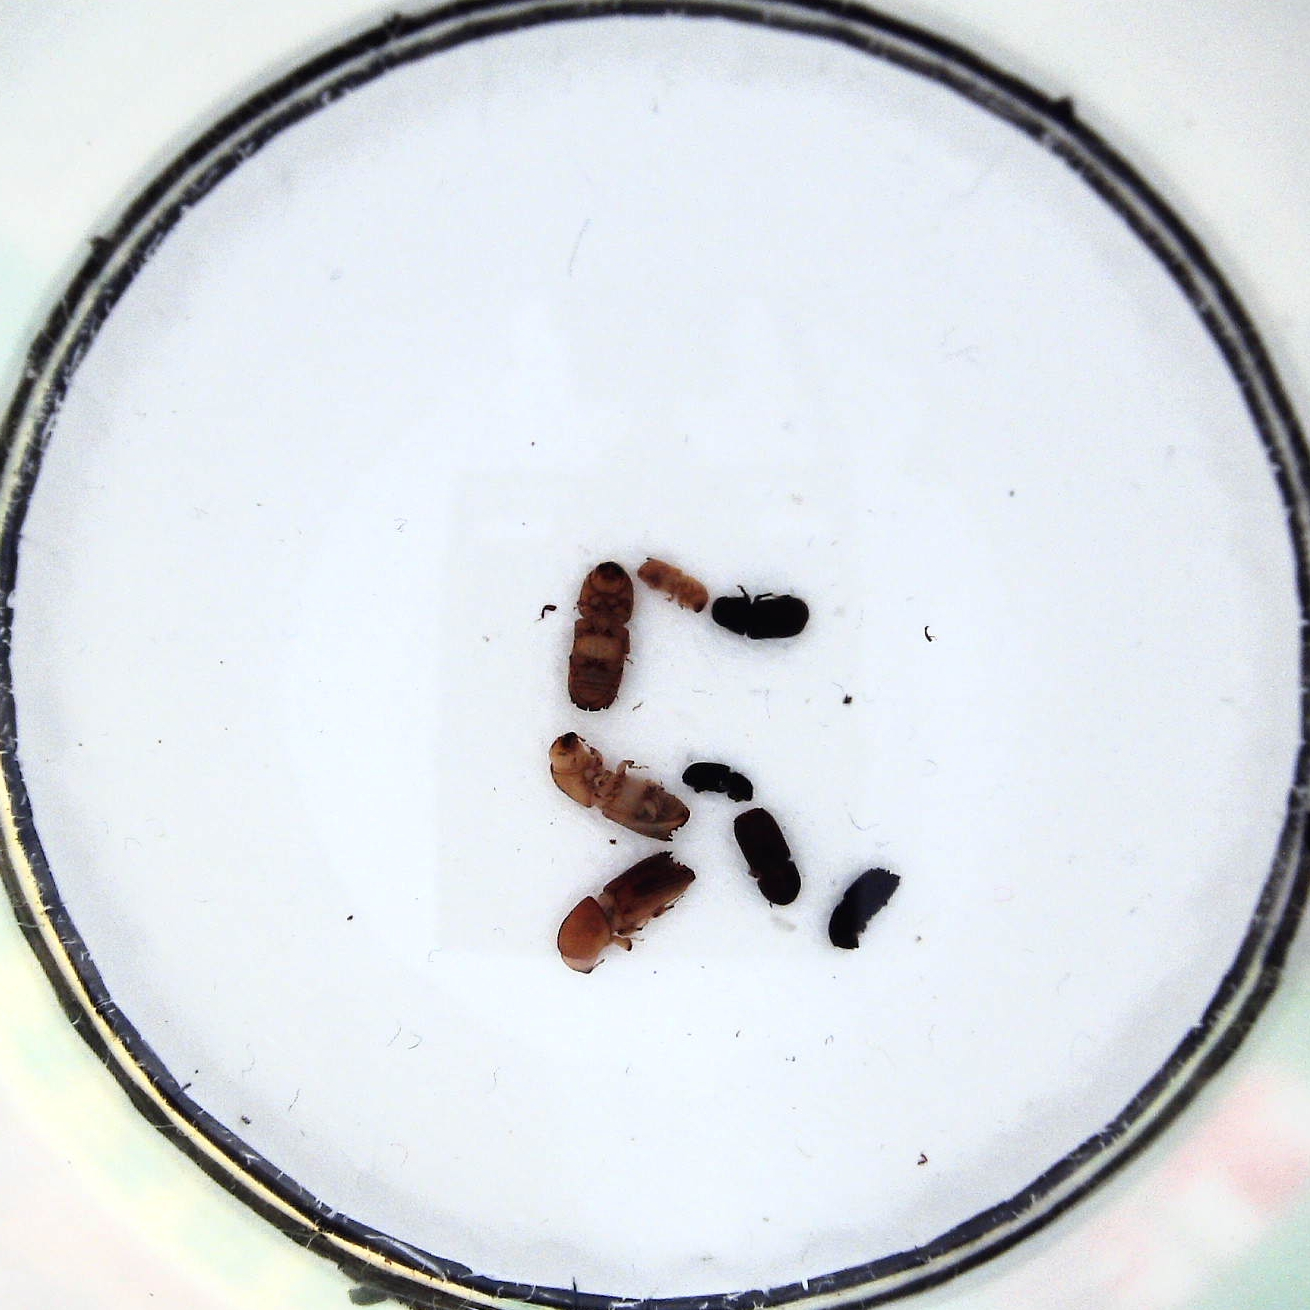Boerner: (555, 847, 697, 978), (548, 731, 687, 841), (564, 559, 638, 714)
Linnaeus: (732, 805, 803, 905), (828, 866, 900, 953)
acuminatus: (636, 555, 709, 612)
armandi: (710, 585, 811, 643)
coleoptera: (683, 759, 755, 804)
